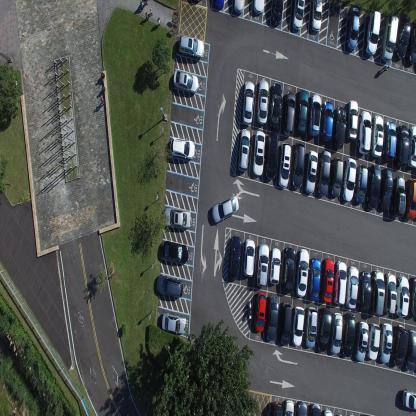car: (381, 13, 399, 62), (364, 10, 382, 56), (212, 194, 240, 223), (391, 324, 409, 366), (162, 204, 191, 230), (316, 306, 332, 352), (378, 166, 394, 212), (160, 240, 190, 264), (340, 312, 356, 357), (290, 141, 305, 189), (296, 247, 310, 298), (366, 163, 381, 210), (172, 68, 199, 94), (394, 18, 411, 59), (178, 34, 204, 60), (156, 273, 183, 298), (282, 245, 296, 293), (277, 141, 291, 189), (329, 154, 344, 198), (371, 269, 385, 316), (252, 129, 266, 176), (269, 83, 283, 130), (282, 91, 296, 138), (334, 259, 348, 305), (342, 156, 356, 202), (241, 80, 255, 126), (265, 131, 278, 180), (308, 256, 322, 301), (395, 275, 410, 317), (354, 320, 369, 362), (304, 149, 318, 194), (395, 126, 410, 168), (358, 110, 372, 155), (161, 311, 187, 335), (266, 293, 279, 341), (317, 149, 330, 197), (345, 265, 359, 309), (391, 174, 405, 218), (319, 101, 334, 142), (256, 78, 269, 125), (370, 115, 384, 158), (321, 257, 334, 303), (379, 322, 393, 364), (304, 306, 318, 348), (291, 305, 305, 347), (308, 94, 322, 136), (228, 235, 241, 280), (256, 242, 269, 287), (237, 127, 250, 172), (354, 163, 368, 204), (170, 137, 196, 159), (329, 311, 342, 355), (367, 321, 381, 361), (382, 121, 396, 161), (296, 89, 308, 135), (384, 272, 397, 314), (254, 290, 267, 332), (403, 328, 416, 370), (280, 300, 292, 345), (348, 5, 360, 50), (358, 270, 371, 311), (334, 105, 346, 149), (242, 237, 255, 277), (269, 247, 282, 285), (346, 99, 358, 140), (406, 176, 416, 220), (406, 124, 416, 167), (406, 19, 415, 64), (292, 0, 305, 30), (270, 0, 284, 26), (311, 0, 322, 33), (402, 387, 416, 411), (408, 276, 416, 317), (295, 400, 308, 415), (271, 400, 283, 416), (233, 0, 245, 15), (284, 398, 294, 416), (253, 0, 264, 16), (309, 401, 321, 415), (213, 0, 224, 12), (323, 407, 332, 415)
